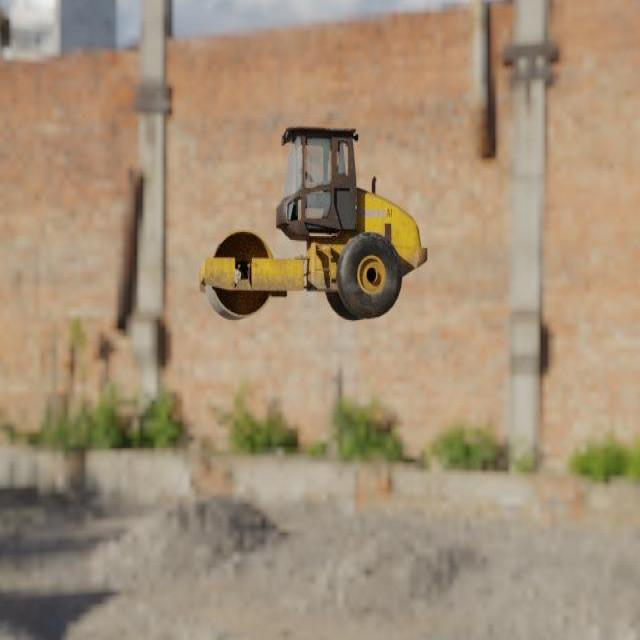Roller: (198, 126, 428, 322)
